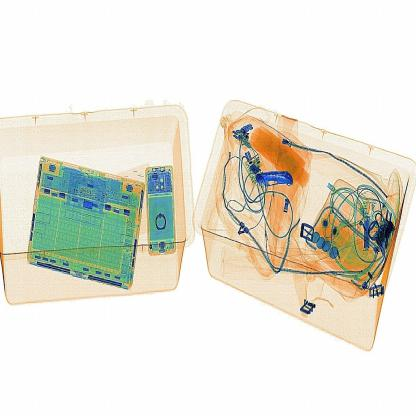knife: (254, 164, 298, 198)
